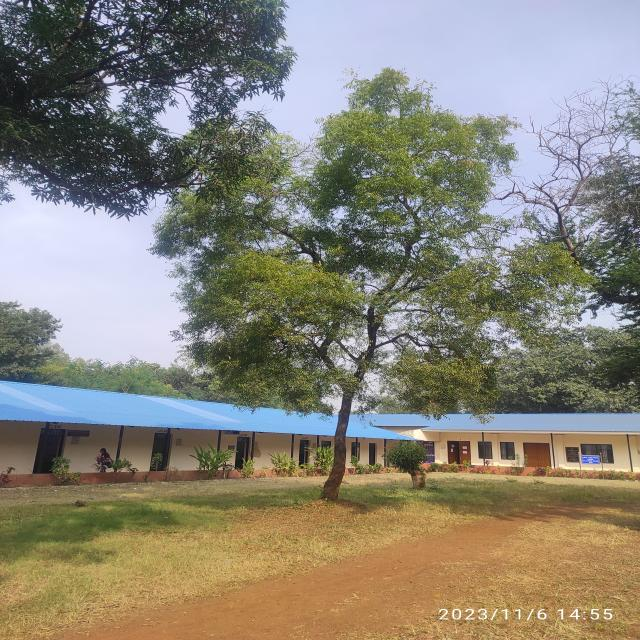Mango Tree: (12, 1, 180, 175)
Neem Tree: (213, 121, 453, 445)
